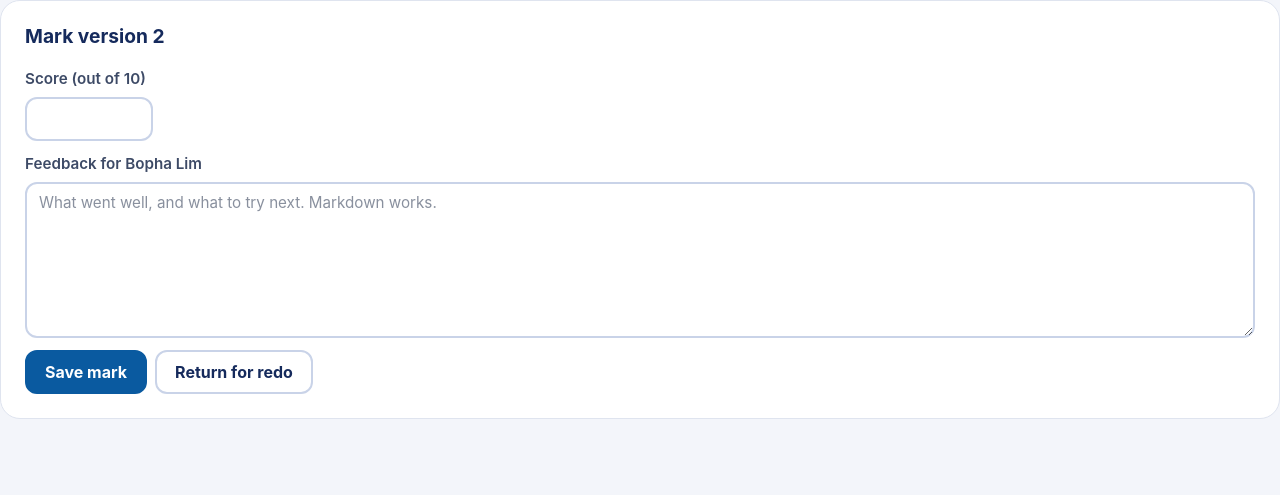
GradeForm › keeps what was typed when the server says no
Type "12" into the field labelled "Score (out of 10)".
click(89, 119); type("12")  # box [25,97,153,141]
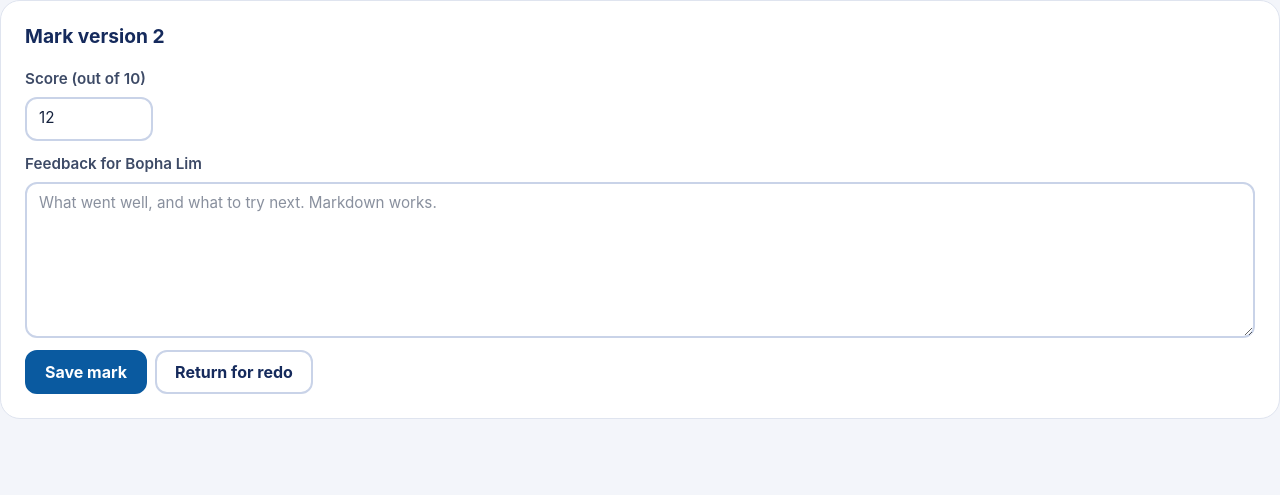
Type "Long comment" into the text box labelled "Feedback for Bopha Lim".
click(640, 260); type("Long comment")  # box [25,182,1255,338]
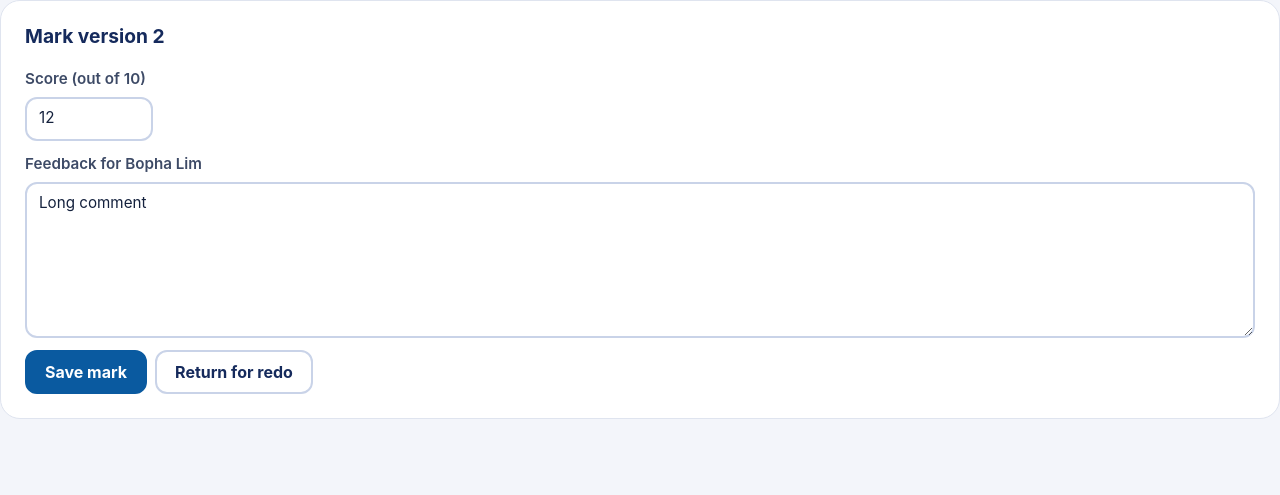
Click the button "Save mark".
click(86, 372)  # box [25,350,147,394]
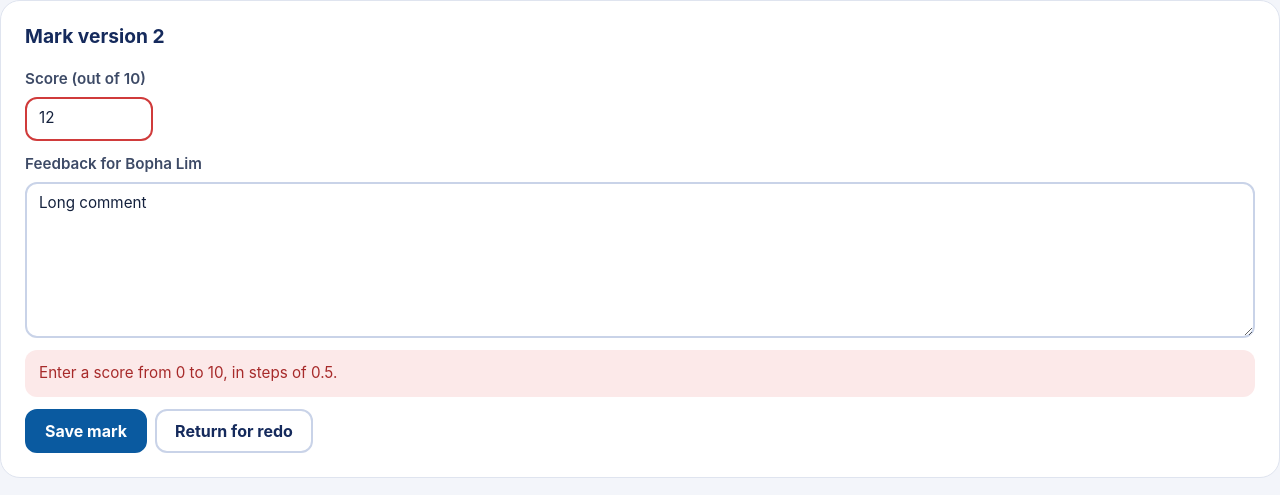
Expected: the message reads "Enter a score from 0 to 10, in steps of 0.5.", [39,363,337,382]
